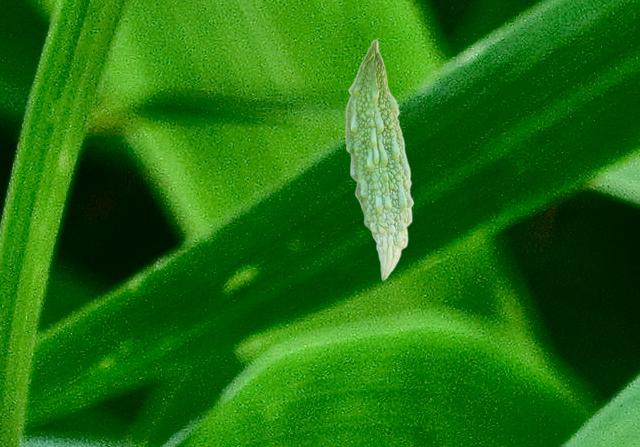ampalaya: (345, 39, 414, 281)
